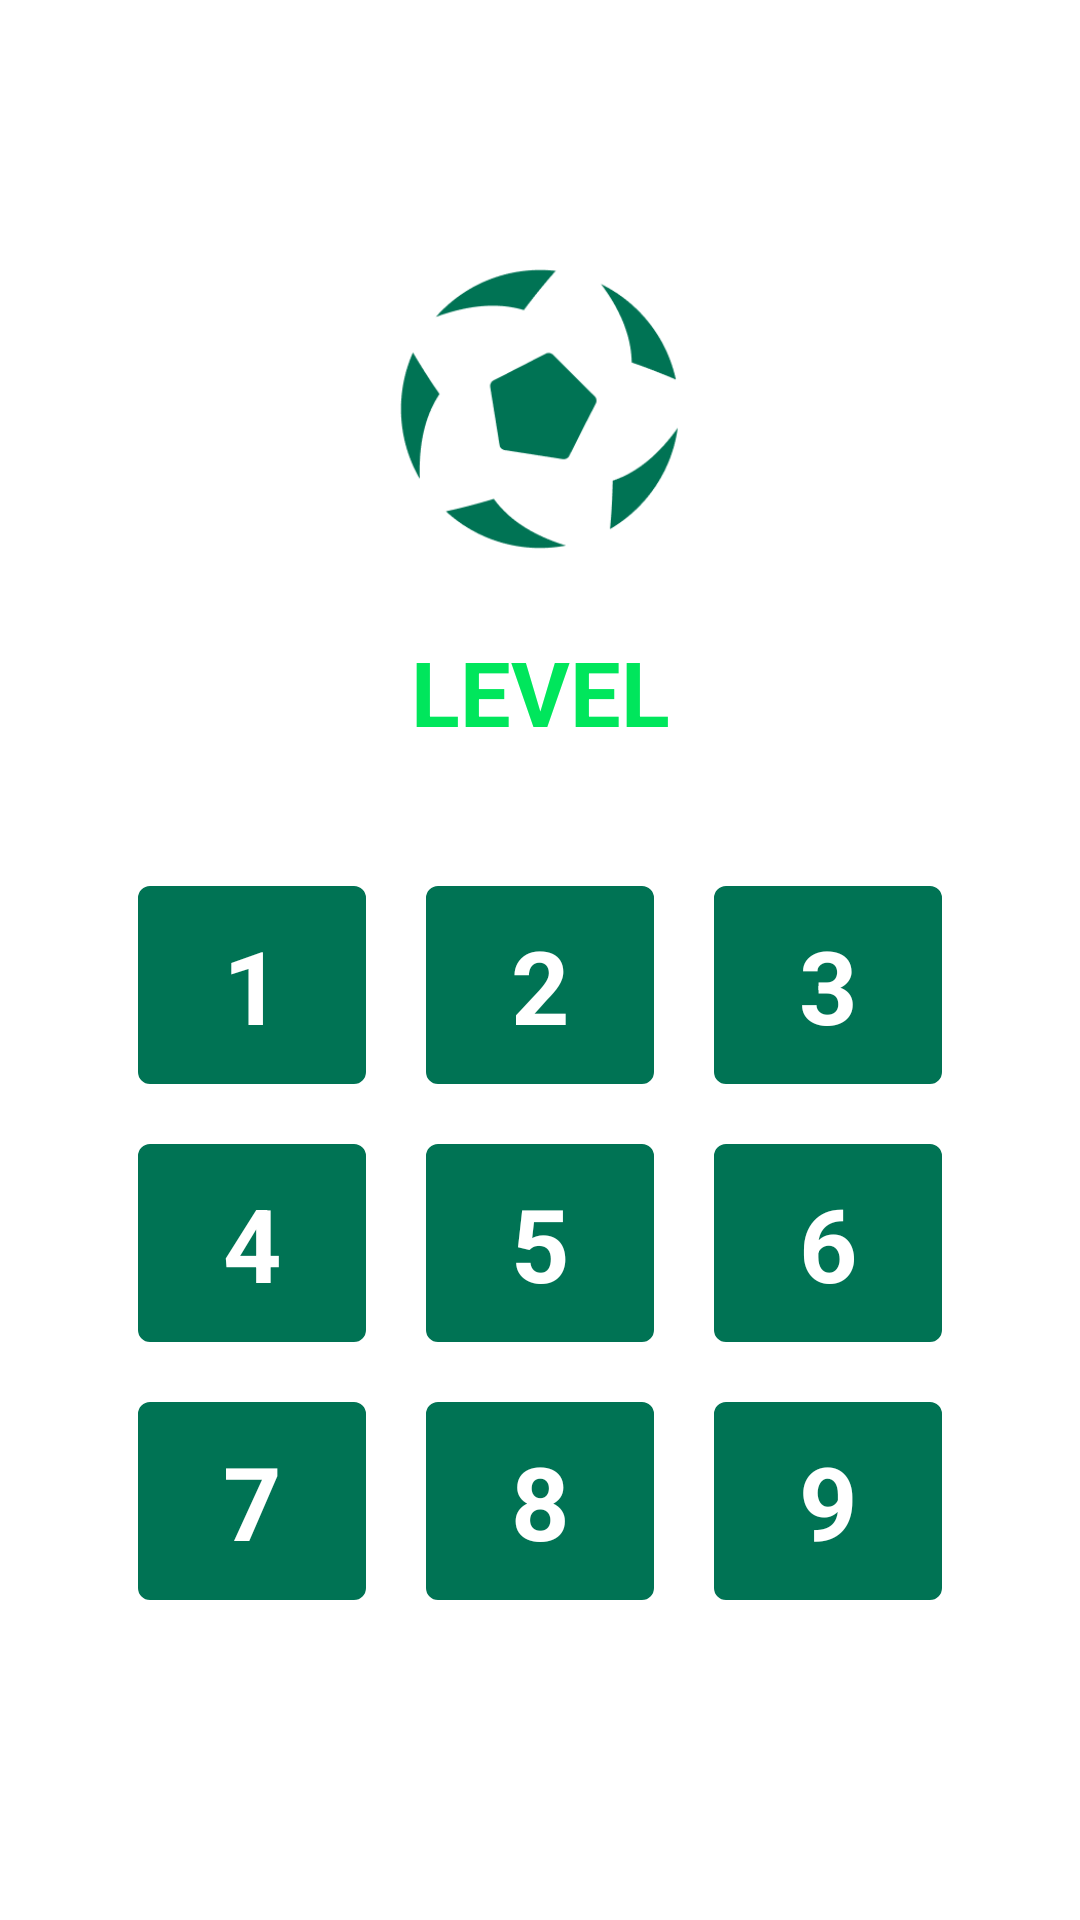

Icons on this 1080 x 1920 Android screen, each with the point to tap as (x,y):
ball: (539,409)
